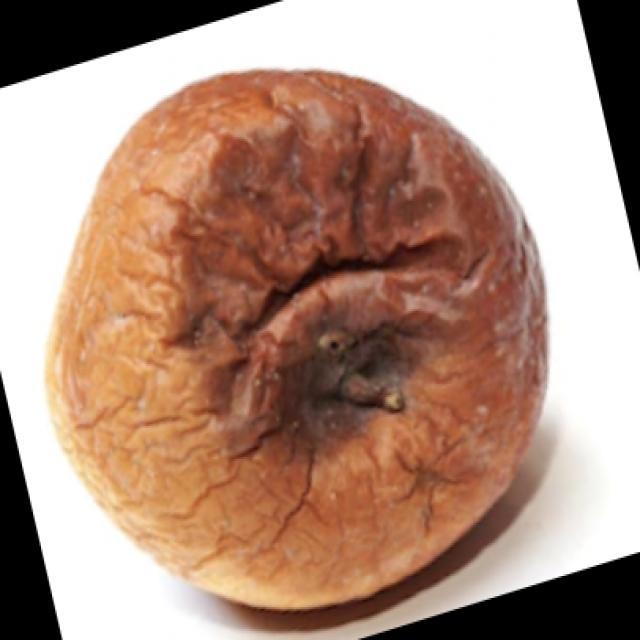Rotten: (49, 63, 551, 610)
